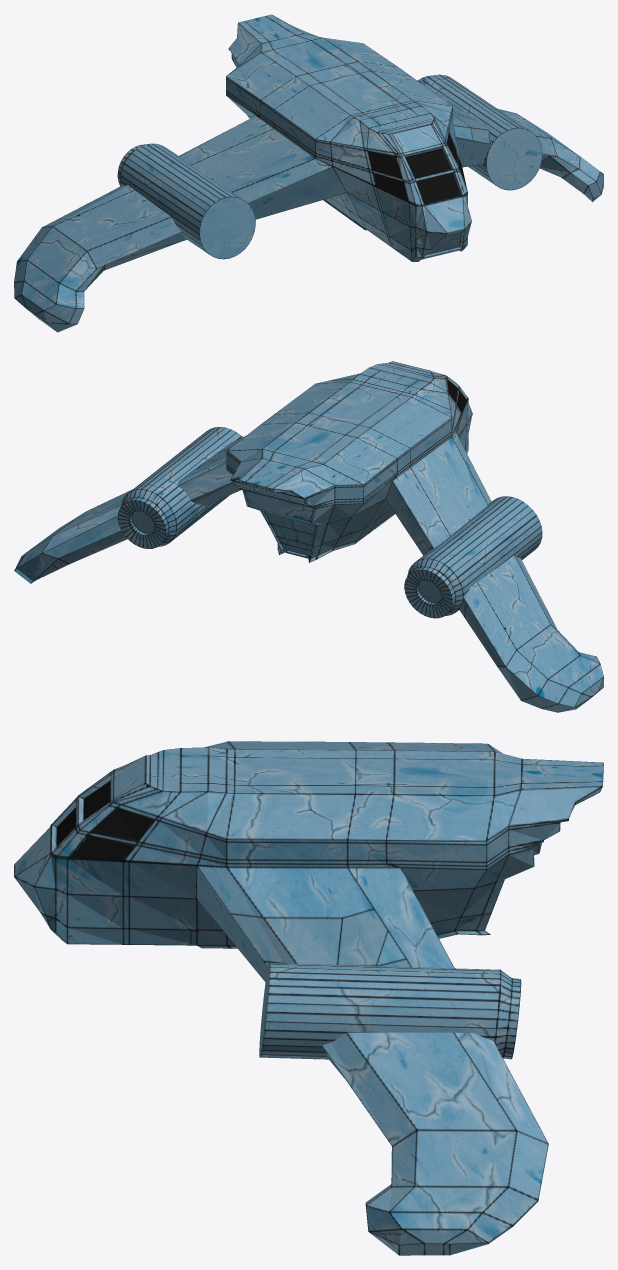
Rendered from blueGhost.obj.
3 renders of one model, top to bottom at view 1: azimuth 30°, elevation 25°; view 2: azimuth 150°, elevation 25°; view 3: azimuth 270°, elevation 25°, orthographic. The views are drawn at different scales.
Parts seen in each view (by area): view 1: Cube; view 2: Cube; view 3: Cube.
Boxes of the visible parts, left/top/right/bottom form: Cube: left=14, top=14, right=603, bottom=332; Cube: left=14, top=361, right=603, bottom=712; Cube: left=14, top=741, right=603, bottom=1255.
Bounding box in the file's own units: 20.06 × 6.88 × 12.44.
